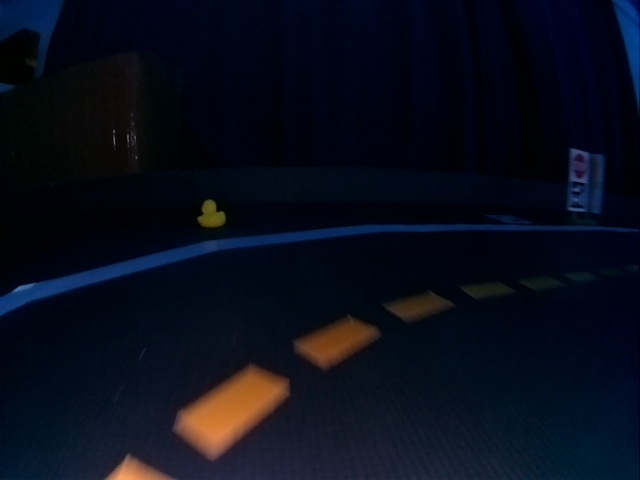Duckie: (199, 200, 222, 227)
QR code: (490, 214, 530, 224)
Stop sign: (569, 148, 588, 182)
